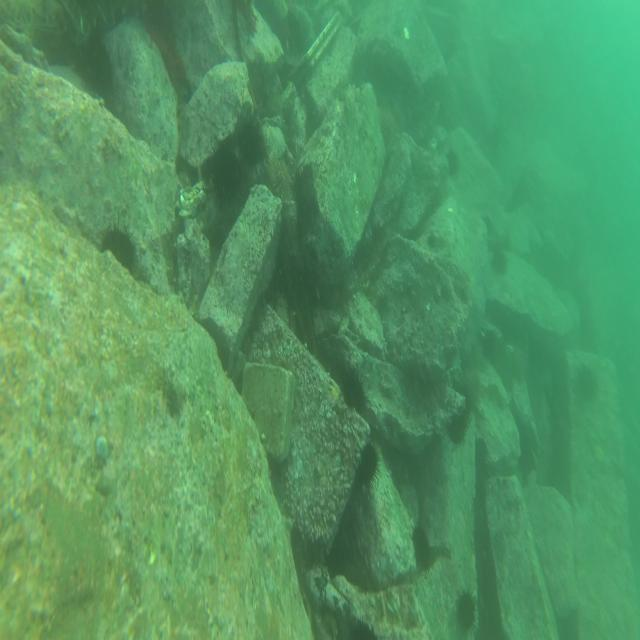echinus: (100, 226, 136, 273), (237, 119, 267, 165), (573, 367, 601, 409), (355, 439, 378, 489), (342, 371, 368, 414), (458, 582, 475, 632), (446, 407, 466, 444), (490, 248, 512, 276)
